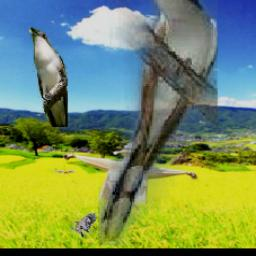Cuckoo: (98, 0, 218, 245), (29, 28, 68, 128)
Woodpecker: (71, 214, 97, 239)
